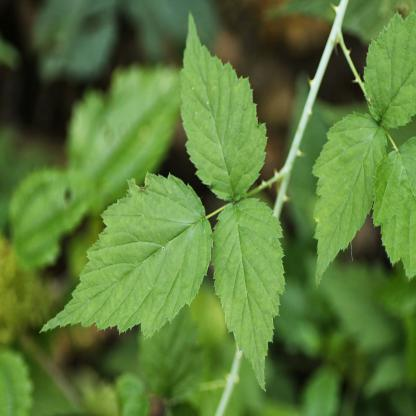raspberry leaf: (37, 171, 212, 337), (177, 7, 270, 201), (209, 197, 290, 399), (313, 109, 392, 284), (373, 133, 416, 284), (362, 9, 416, 129)
